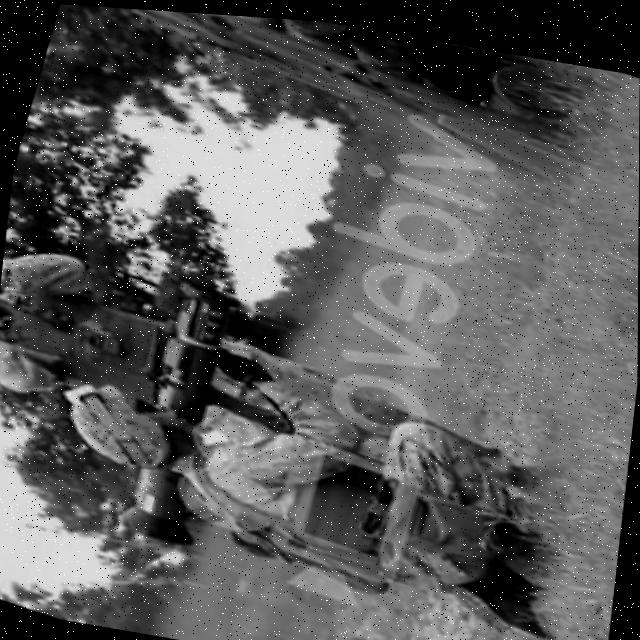rocket: (113, 266, 254, 551)
